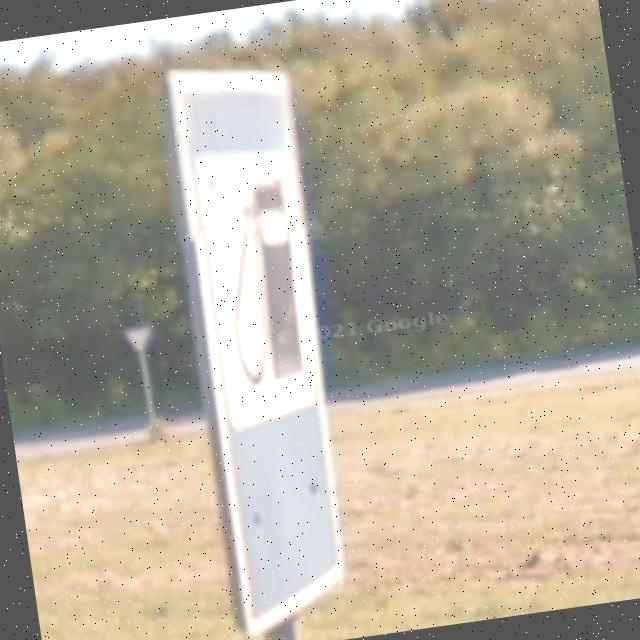Ustap pierwszenstwa: (122, 324, 156, 356)
